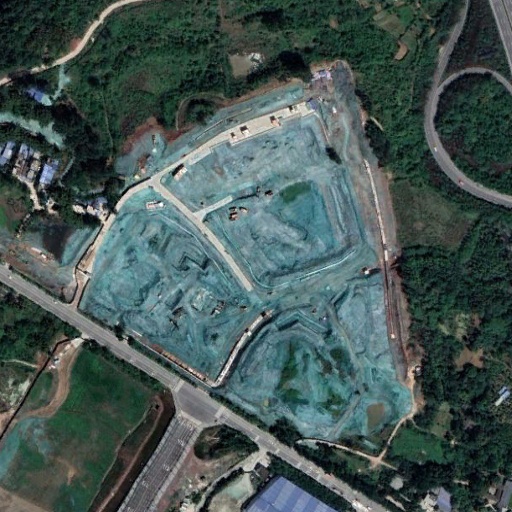cw: (73, 59, 415, 465)
